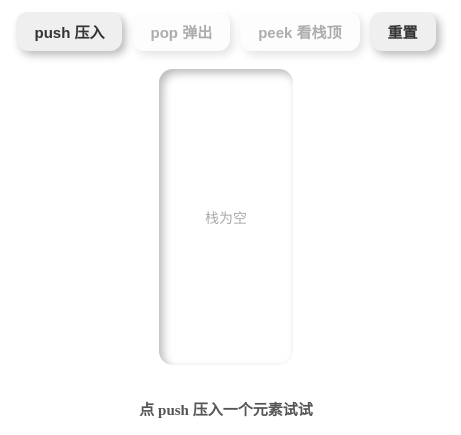
Test: StackViz › TC-VIZ-STACKVIZ-07 重置清空
The image size is (461, 435).
Step 1. Click the button "push 压入" → (70, 32), box [16,12,122,51]
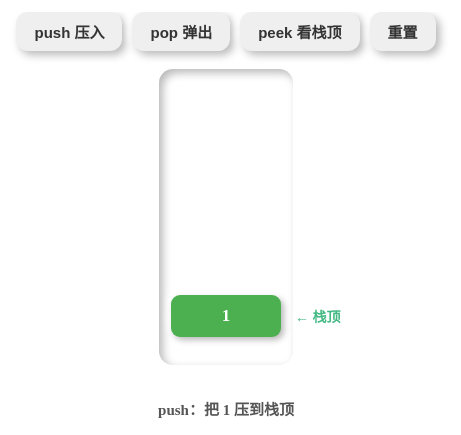
Step 2. Click the button "重置" → (402, 32), box [370,12,436,51]
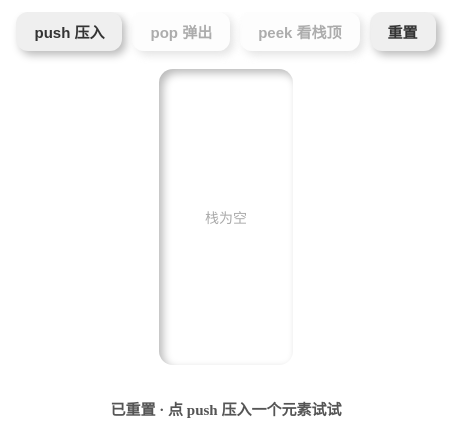
Now the text "栈为空" is shown, box [205,207,247,227]
